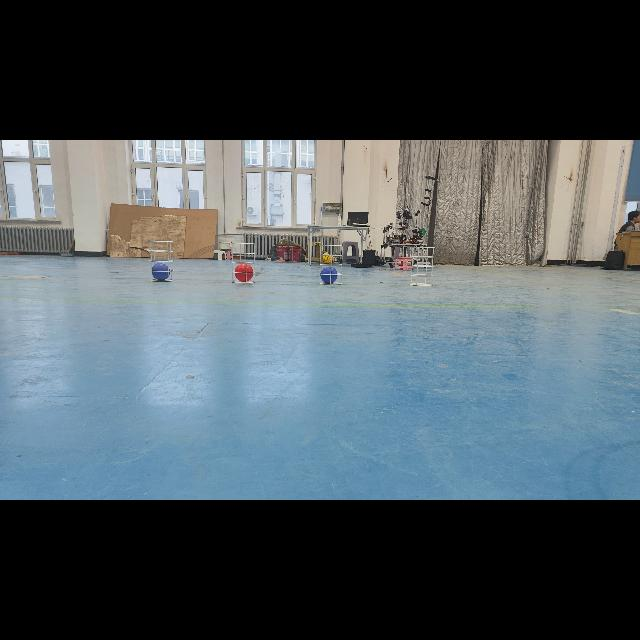B: (152, 263, 170, 281), (320, 266, 338, 284)
R: (234, 264, 253, 282)
S: (146, 238, 177, 284), (228, 240, 258, 286), (408, 243, 436, 289), (316, 243, 344, 287)
